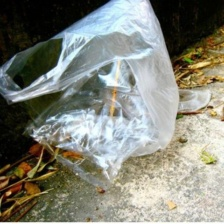plastic_bag: (0, 0, 182, 193)
